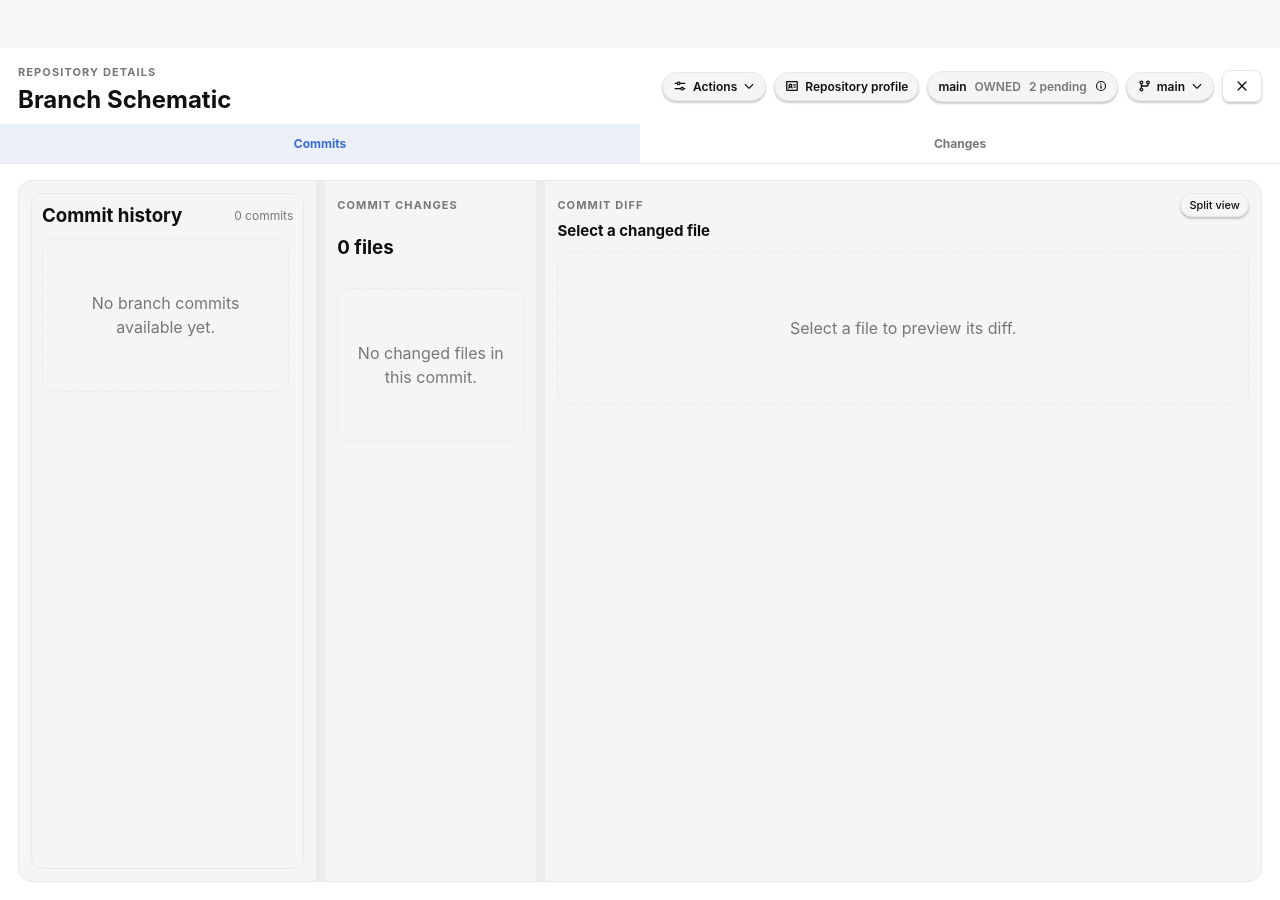
Test: RepositoryDetail › renders the commits and changes tabs and opens the compact repository summary popover
Expected: the tab "Commits" is shown, [0,124,640,163]
Expected: the tab "Changes" is shown, [640,124,1279,163]
Click the button with aria-label "show repository details": coordinates (1023, 86) [927,70,1118,102]
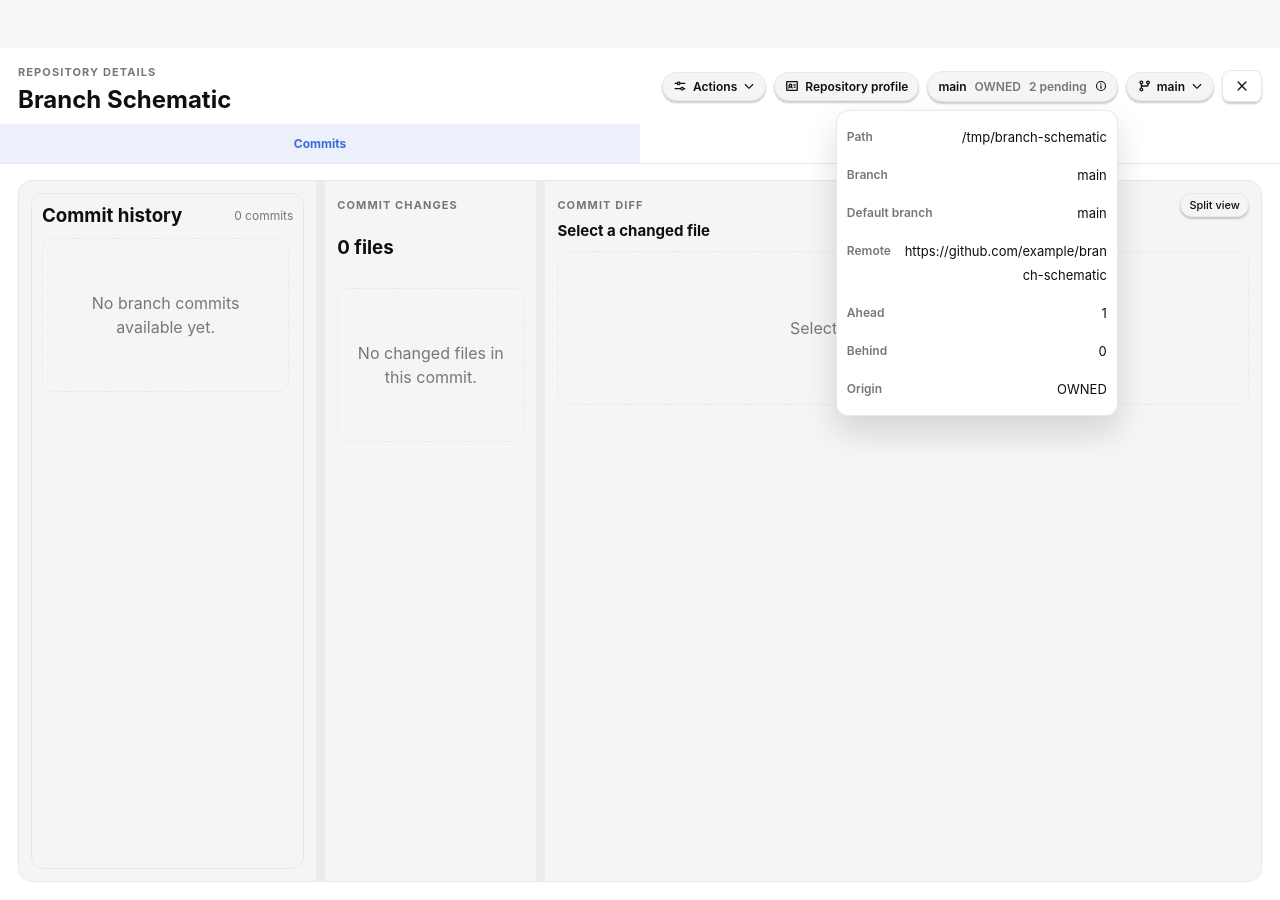
Expected: the text "Path" is shown, [847,124,873,148]
Expected: the text "Default branch" is shown, [847,200,932,224]
Expected: the text "Remote" is shown, [847,238,891,262]
